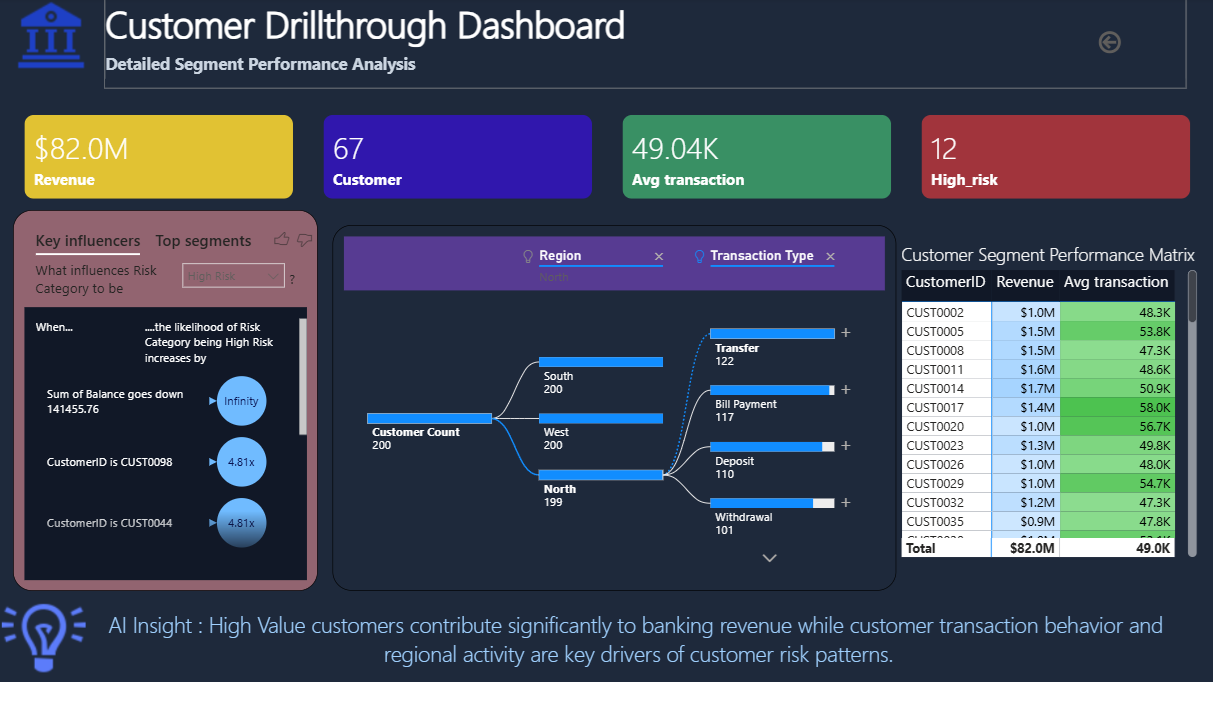

The page's visual inventory and layout, read from the dashboard file:
{"tool":"powerbi","page":{"name":"Customer Drillthrough","canvas":[1280,720],"ordinal":2},"visuals":[{"type":"actionButton","box":[0,624,1264,96],"z":1000},{"type":"shape","title":"Customer Drillthrough Dashboard","box":[112,0,1136,96],"z":4000},{"type":"actionButton","box":[16,0,112,80],"z":6000},{"type":"cardVisual","fields":{"Data":["measure table.Revenue","measure table.Customer","measure table.Avg transaction","measure table.High risk"]},"box":[16,112,1248,112],"z":6001},{"type":"keyDriversVisual","fields":{"Target":["Customer_AI_Table.Risk Category"],"ExplainBy":["Sum(Customer_AI_Table.Balance)","Customer_AI_Table.Customer Segment","Customer_AI_Table.CustomerID","Customer_AI_Table.Gender","Customer_AI_Table.Region","Customer_AI_Table.Transaction Type"]},"box":[16,224,320,400],"z":6004},{"type":"decompositionTreeVisual","fields":{"Analyze":["Customer_AI_Table.Customer Count"],"ExplainBy":["Customer_AI_Table.Region","Customer_AI_Table.Transaction Type","Customer_AI_Table.Gender","Customer_AI_Table.Balance"]},"box":[352,240,592,384],"z":6005},{"type":"pivotTable","title":"Customer Segment Performance Matrix","fields":{"Values":["measure table.total_revenue","measure table.average_transaction_value"],"Rows":["Customers.CustomerID"]},"box":[944,256,320,336],"z":6006},{"type":"card","fields":{"Values":["Customer_AI_Table.AI_Insight"]},"box":[80,624,1184,96],"z":6007},{"type":"actionButton","box":[1152,32,96,32],"z":6008}]}

Visuals, with their boxes on the page's 1280x720 design canvas (x1, y1, x2, y2). These are canvas units, not pixel positions in the 1213x720 screenshot, which may show the page scaled, cropped or inside an application window:
actionButton: crop(0, 624, 1264, 720)
"Customer Drillthrough Dashboard" shape: crop(112, 0, 1248, 96)
actionButton: crop(16, 0, 128, 80)
cardVisual - measure table.Revenue x measure table.Customer: crop(16, 112, 1264, 224)
keyDriversVisual - Customer_AI_Table.Risk Category x Sum(Customer_AI_Table.Balance): crop(16, 224, 336, 624)
decompositionTreeVisual - Customer_AI_Table.Customer Count x Customer_AI_Table.Region: crop(352, 240, 944, 624)
"Customer Segment Performance Matrix" pivotTable: crop(944, 256, 1264, 592)
card - Customer_AI_Table.AI_Insight: crop(80, 624, 1264, 720)
actionButton: crop(1152, 32, 1248, 64)
